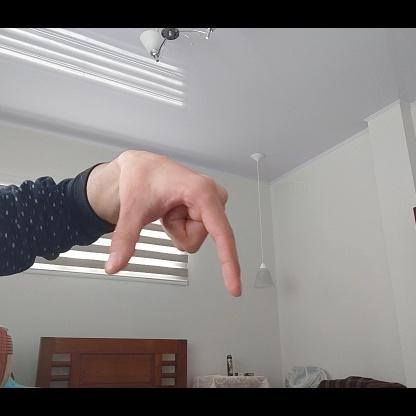Q: (107, 162, 243, 296)
